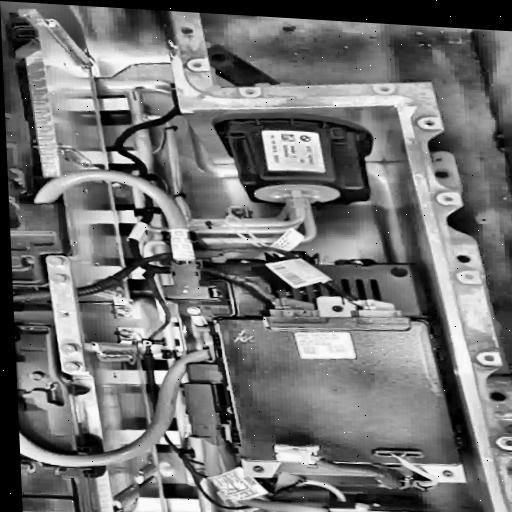high_volt_cable: (15, 335, 222, 475), (26, 161, 201, 275)
low_volt_cable: (10, 224, 474, 352), (115, 78, 248, 512)
nut: (59, 359, 82, 372), (58, 341, 80, 354), (47, 271, 69, 284), (47, 255, 63, 266)
